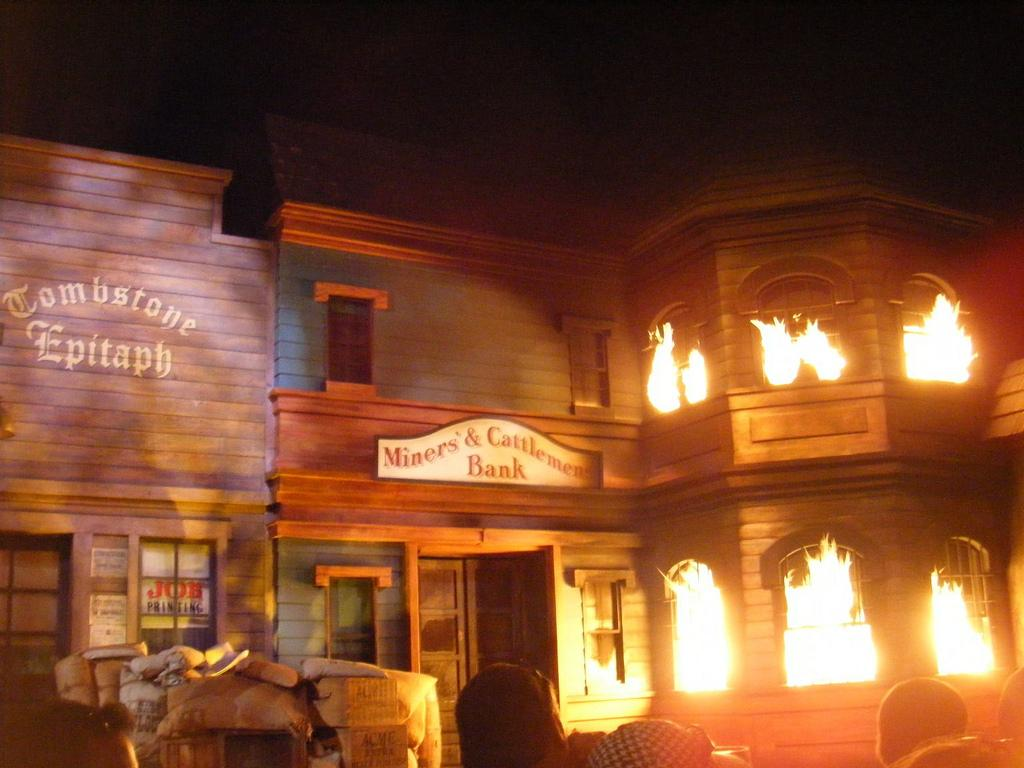fire: (792, 568, 880, 686), (932, 588, 996, 676), (678, 576, 726, 688), (756, 322, 848, 380), (906, 294, 962, 376), (652, 328, 704, 406)
